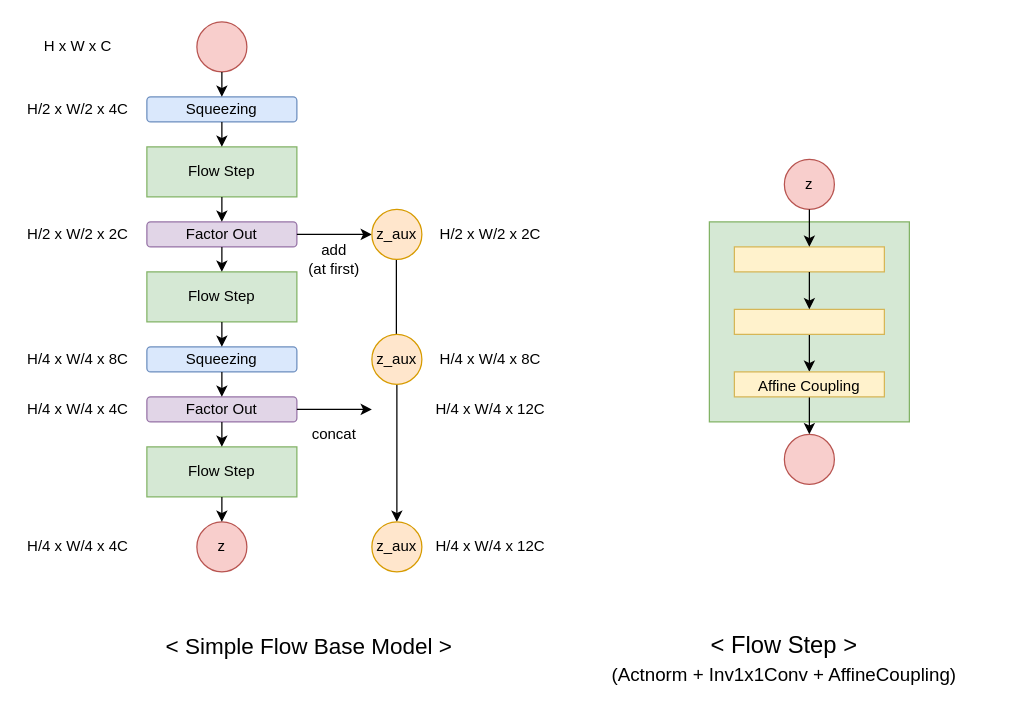
The diagram is 1030 pixels wide and 710 high, and some of its shapes have lost their labels. The centre of each missing label's shape, as x and y in pixels:
"Actnorm" goes at [808,259].
"image" goes at [221,46].
"Inv1x1Conv" goes at [808,321].
"z’" goes at [808,458].
